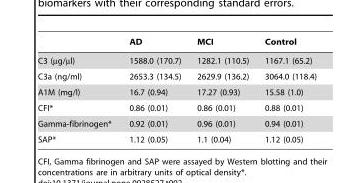table: (37, 37, 316, 143)
table column: (37, 37, 119, 143), (119, 37, 188, 143), (188, 37, 256, 143), (256, 37, 316, 143)
table column header: (37, 37, 316, 50)
table row: (37, 50, 316, 68), (37, 68, 316, 84), (37, 99, 316, 115), (37, 115, 316, 131), (37, 84, 316, 99), (37, 37, 316, 50), (37, 131, 316, 143)
